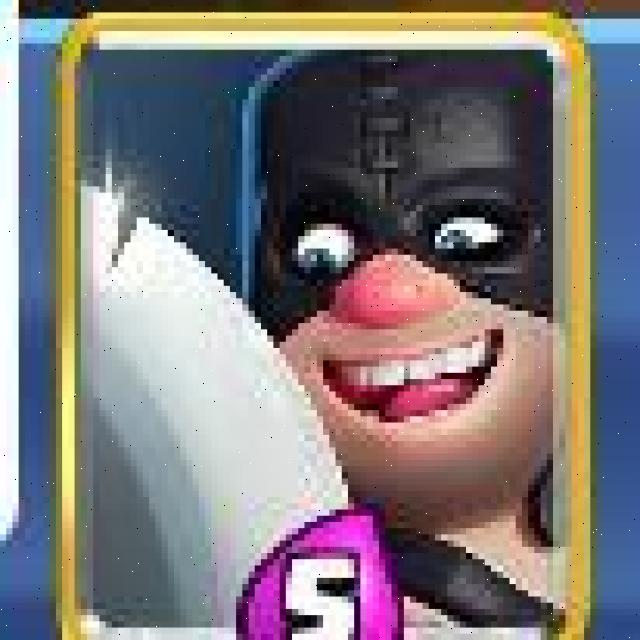Executioner: (58, 15, 590, 640)
